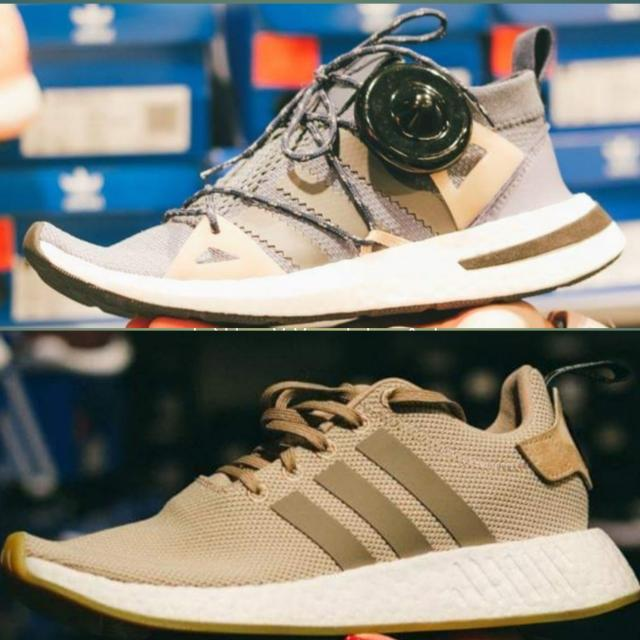shoe: (16, 19, 624, 323), (0, 353, 639, 640)
